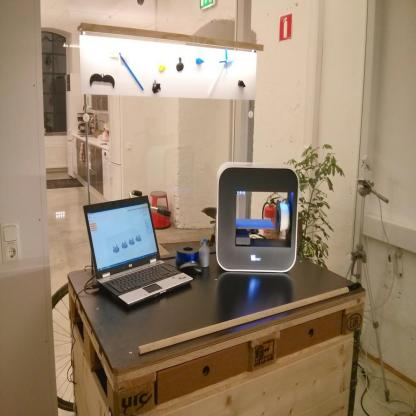board: (82, 193, 192, 311), (199, 238, 210, 268)
